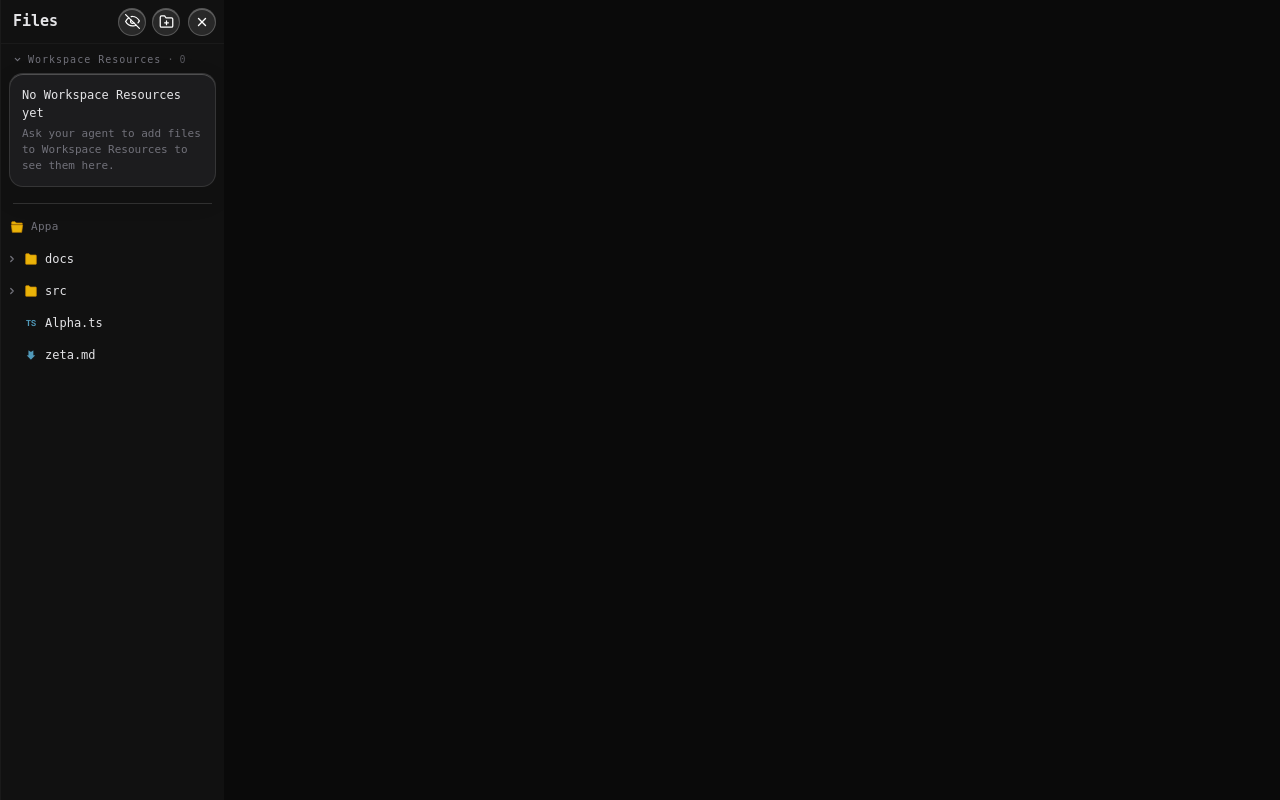
Test: + folder › a server without the create route hides the button (no faking)
The image size is (1280, 800).
Check: the text "Alpha.ts" is shown, box [45,316,103,330]
Click the button with test id "files-new-folder".
click(166, 22)  # box [152,8,180,36]
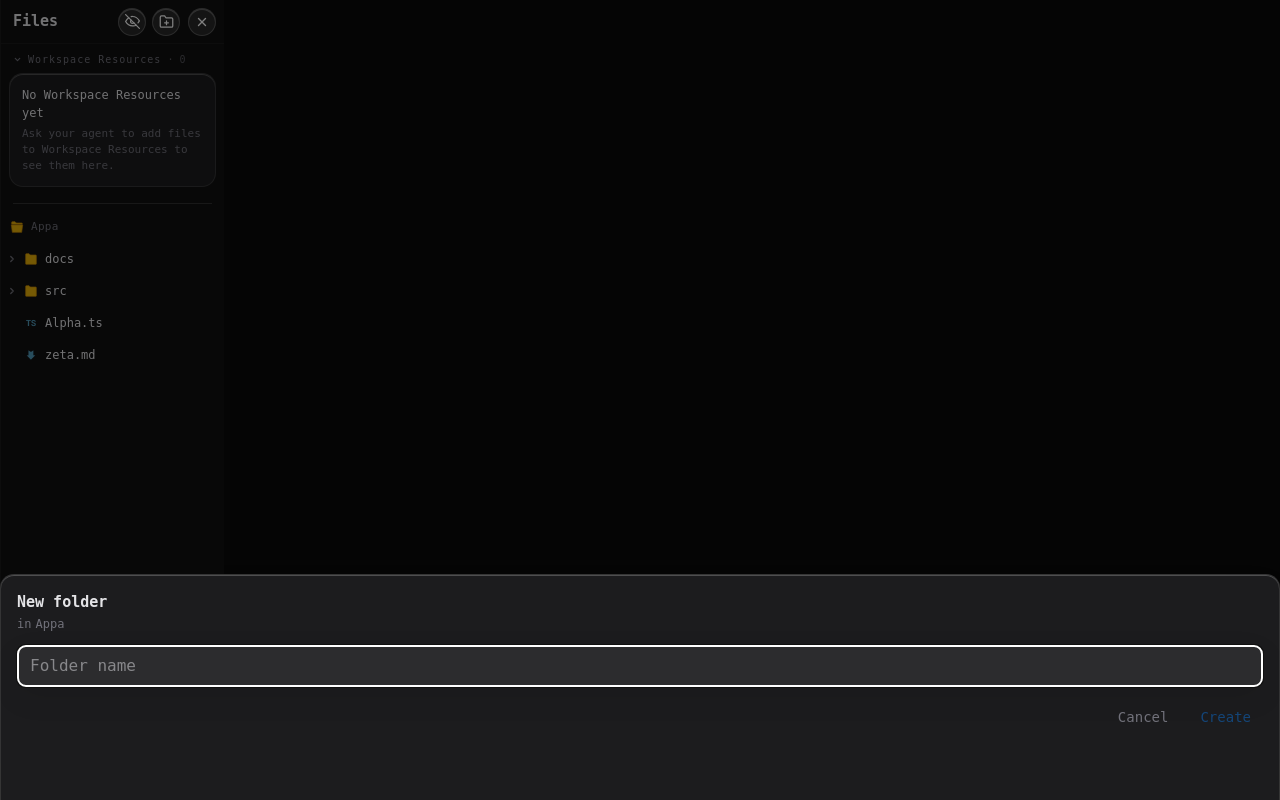
Type "x" into the field with test id "files-name-input".
click(640, 666); type("x")  # box [17,645,1263,687]
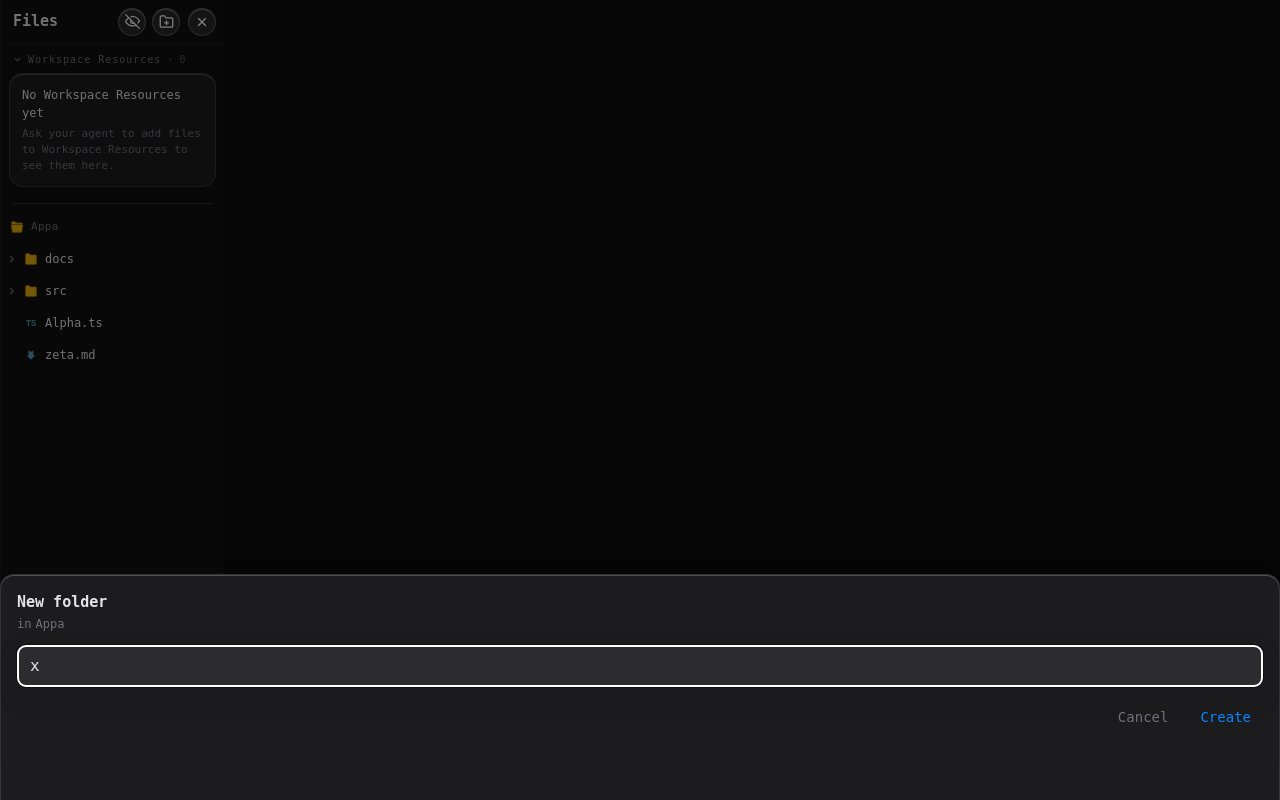
Click the button with test id "files-name-save".
click(1226, 718)  # box [1188,699,1263,736]
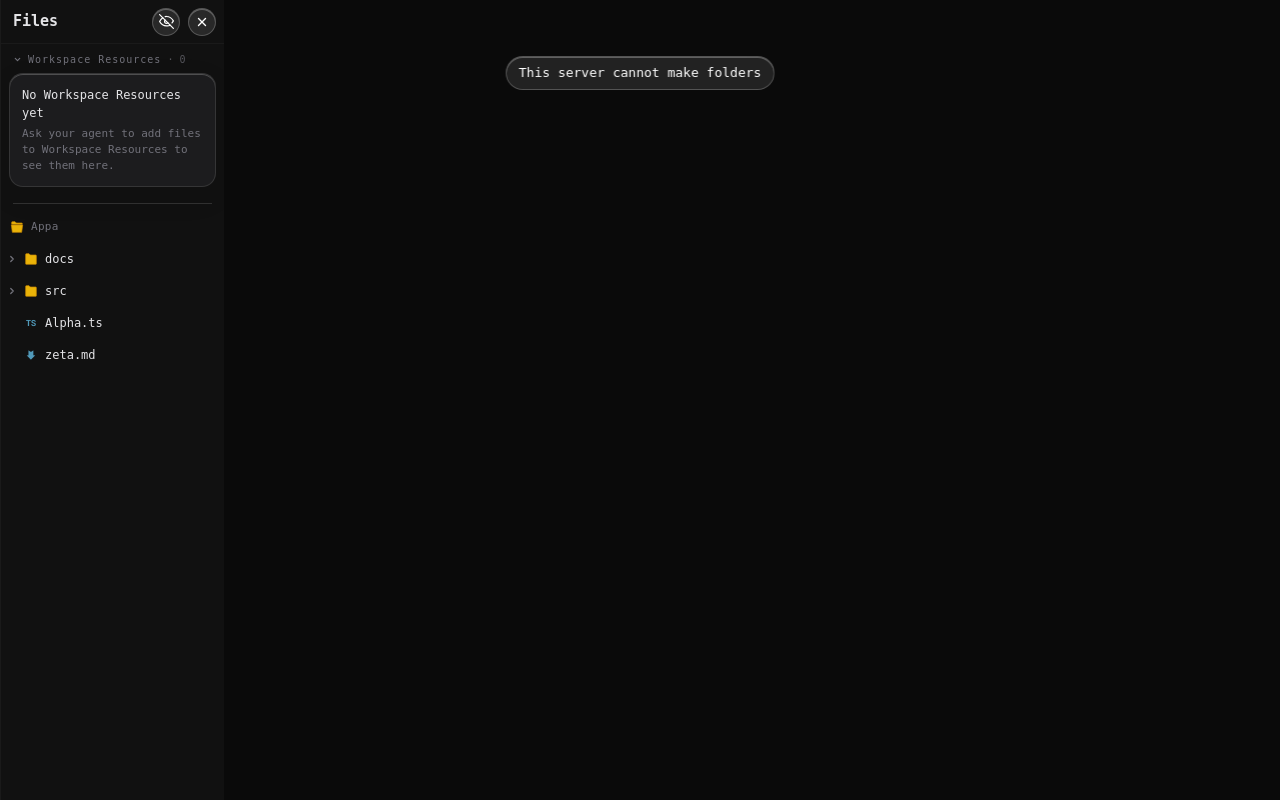
Check: the button with test id "files-new-folder" is gone
